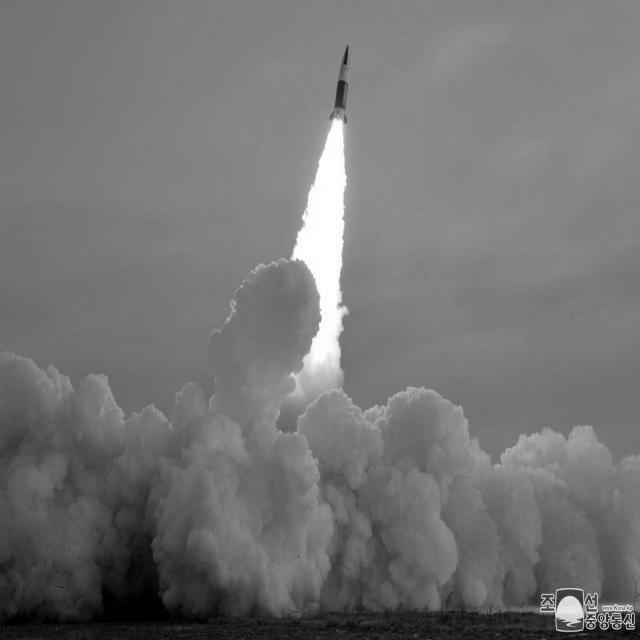missile: (330, 36, 357, 122)
